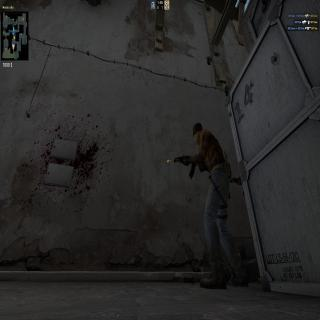T-Head: (192, 120, 204, 148)
